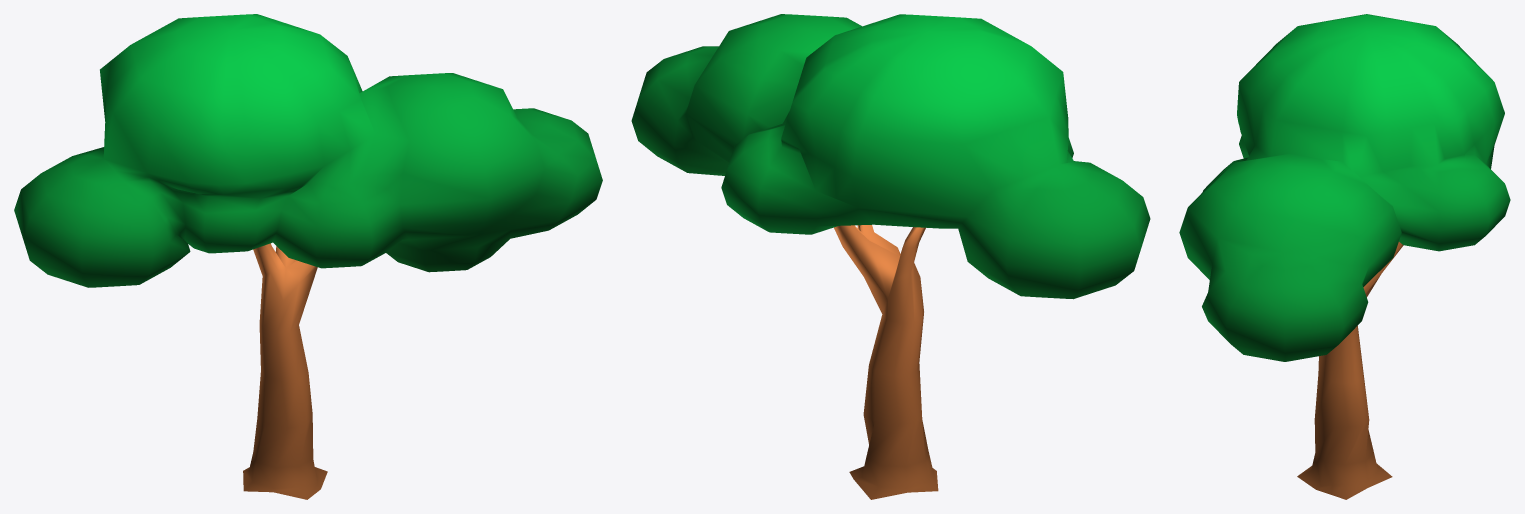
Rendered from ArvoreNuvemClara.fbx.
3 renders of one model, left to right at view 1: azimuth 30°, elevation 25°; view 2: azimuth 150°, elevation 25°; view 3: azimuth 270°, elevation 25°, orthographic. The views are drawn at different scales.
Visible parts, largest first — view 1: ArvoreNuvem.002; view 2: ArvoreNuvem.002; view 3: ArvoreNuvem.002.
Boxes of the visible parts, left/top/right/bottom form: ArvoreNuvem.002: left=14, top=14, right=602, bottom=499; ArvoreNuvem.002: left=631, top=14, right=1150, bottom=499; ArvoreNuvem.002: left=1179, top=14, right=1510, bottom=499.
Bounding box in the file's own units: 382 × 315 × 220.
